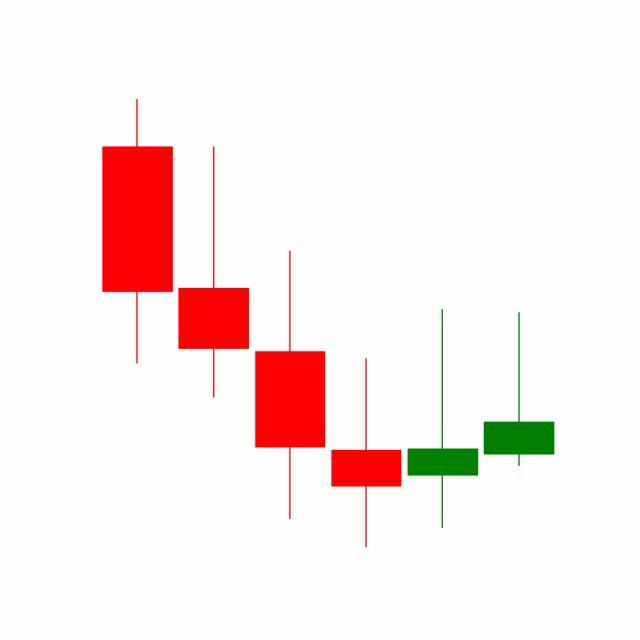Tasuki Gap: (252, 247, 482, 548)
